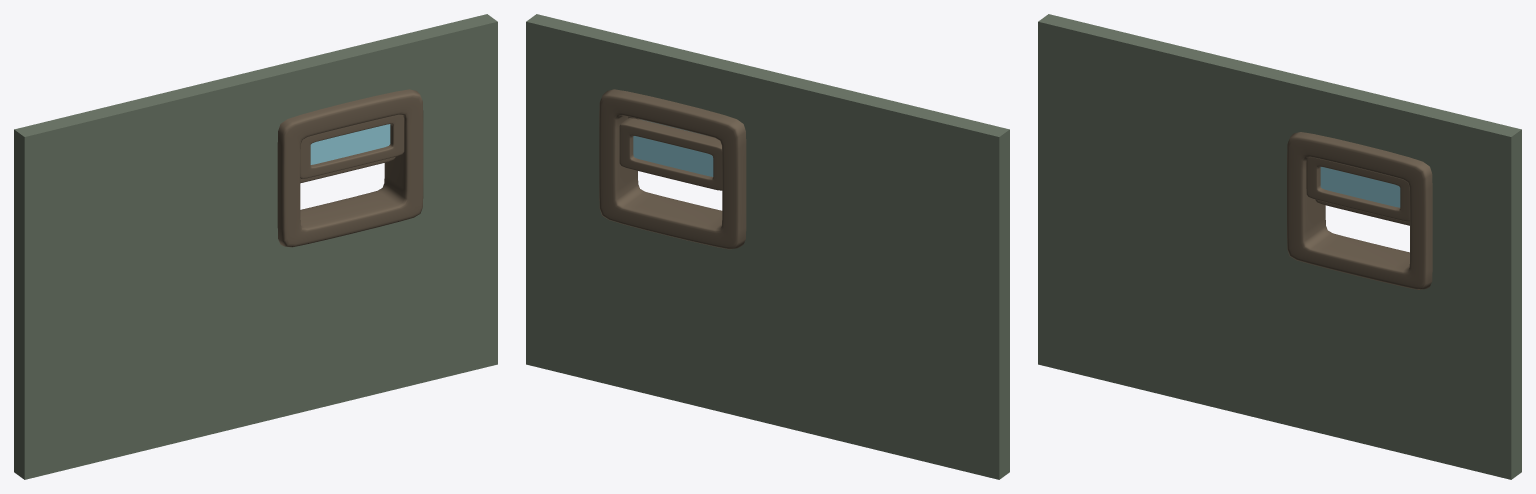
The model's file is window_wall01.fbx.
The picture shows the model from 3 angles, left to right: view 1: azimuth 30°, elevation 25°; view 2: azimuth 150°, elevation 25°; view 3: azimuth 330°, elevation 25°; orthographic projection.
Parts seen in each view (by area): view 1: window_wall_01; view 2: window_wall_01; view 3: window_wall_01.
Boxes of the visible parts, box(x1,y1,x2,y2) form: window_wall_01: box(14, 14, 497, 479); window_wall_01: box(526, 14, 1009, 479); window_wall_01: box(1038, 14, 1521, 479).
Bounding box in the file's own units: 650 × 450 × 55.46.
